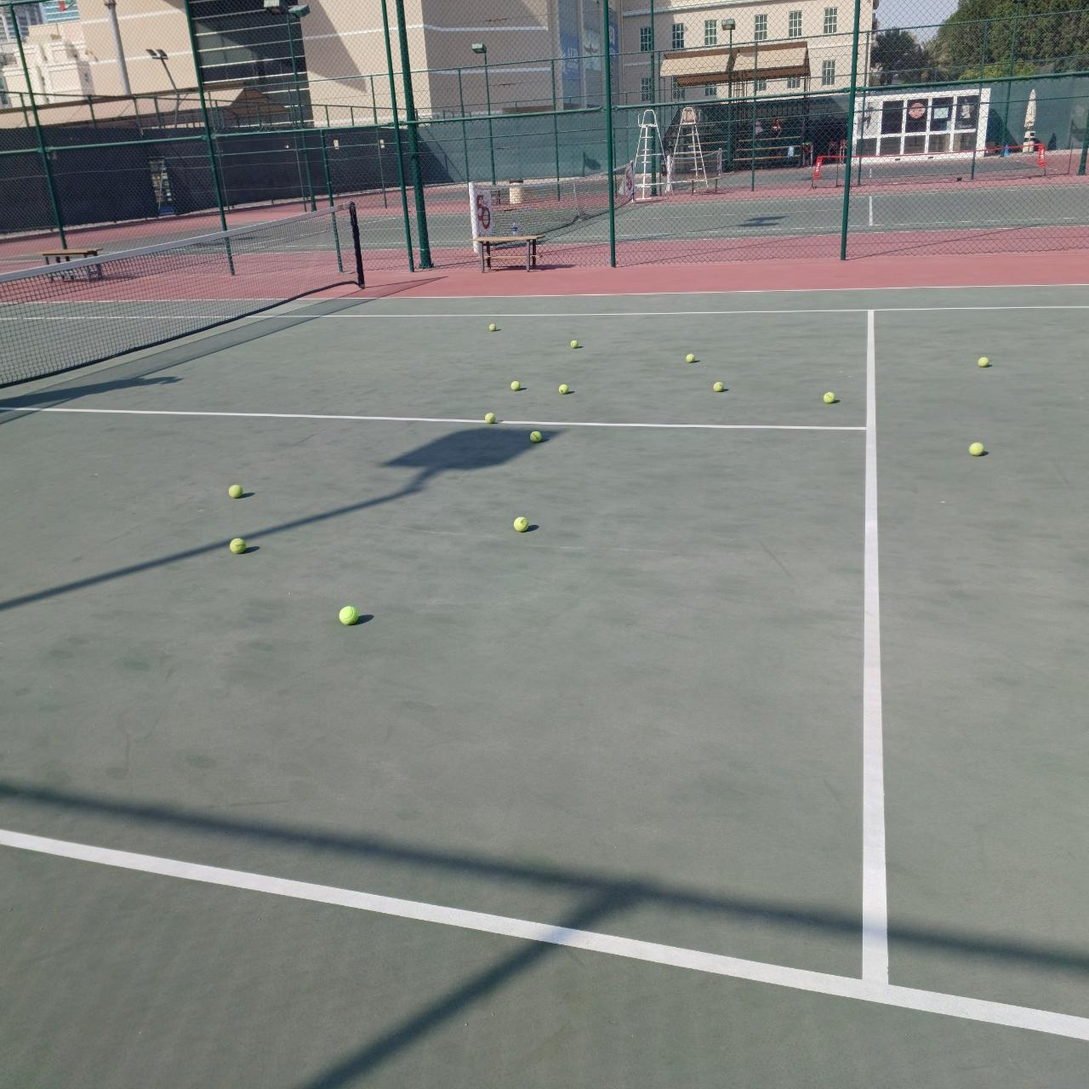tennis-ball: (337, 602, 358, 625), (228, 535, 245, 553), (966, 439, 984, 455), (511, 514, 527, 531), (227, 482, 242, 498), (527, 429, 542, 442), (976, 354, 989, 367), (822, 391, 835, 403), (484, 412, 496, 425), (712, 381, 725, 392), (684, 352, 696, 363), (510, 380, 521, 391), (559, 384, 570, 395), (570, 339, 579, 349), (489, 323, 496, 332)
